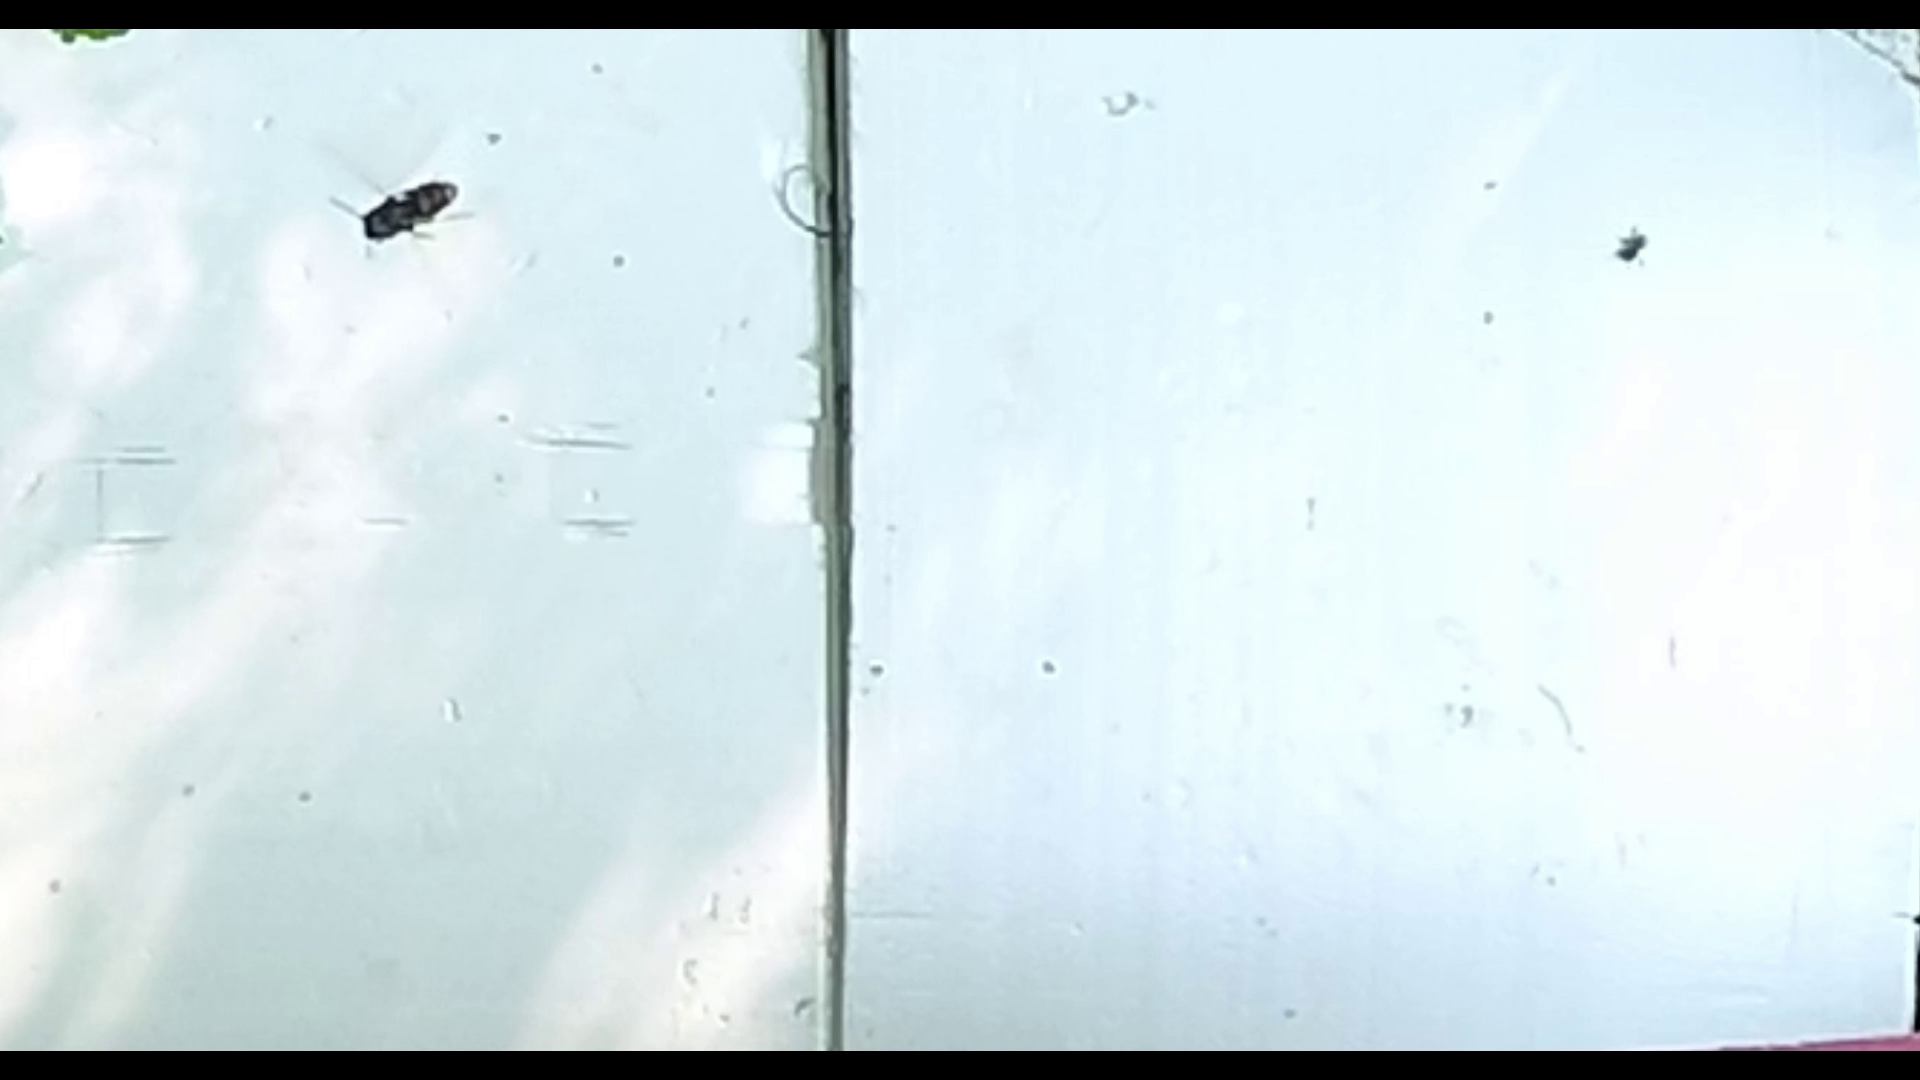Asian_hornets: (310, 113, 487, 281)
